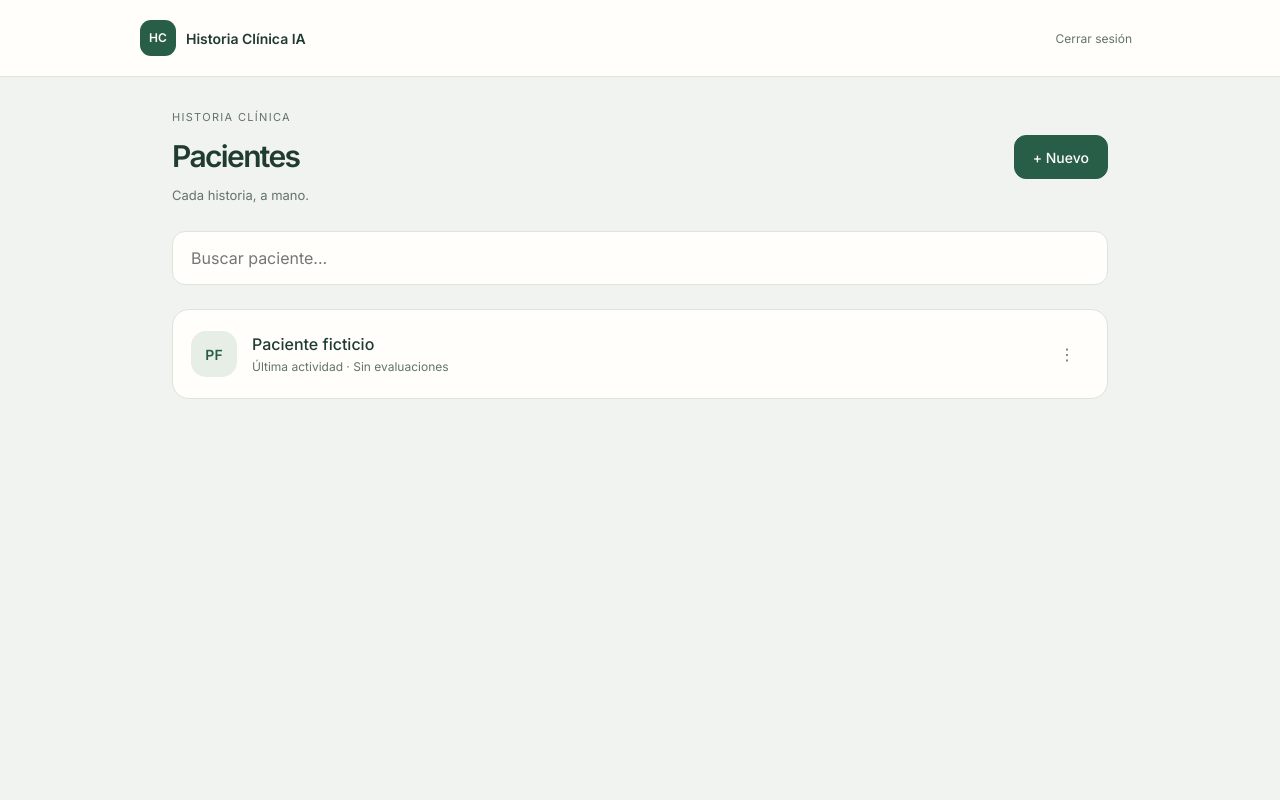
Test: eliminar paciente exige confirmación y actualiza la lista
The width and height of the screenshot is (1280, 800).
Expected: the text "Paciente ficticio" is shown, top-left (252, 334), bottom-right (374, 354)
Click the button named "Más opciones": x=1067, y=354 top-left (1045, 332), bottom-right (1089, 376)
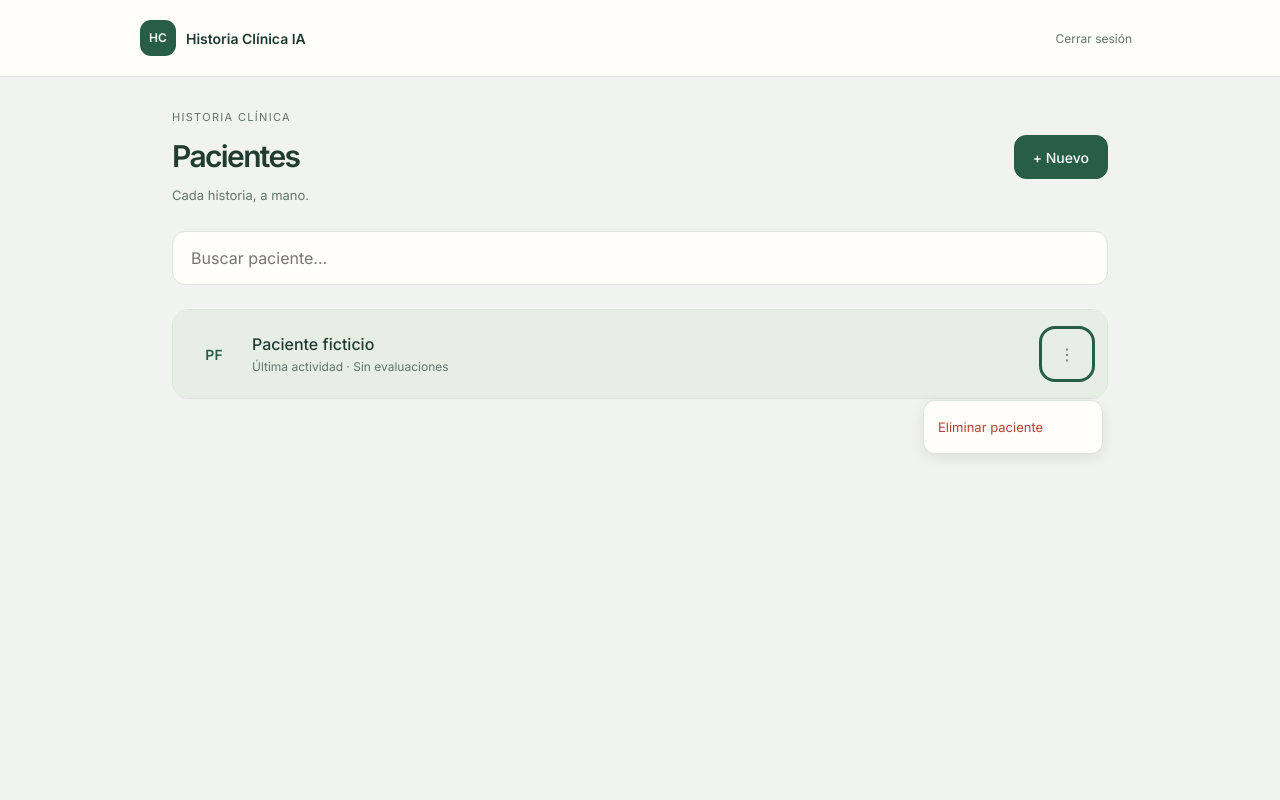
Click the button "Eliminar paciente": x=1013, y=427 top-left (928, 405), bottom-right (1098, 449)
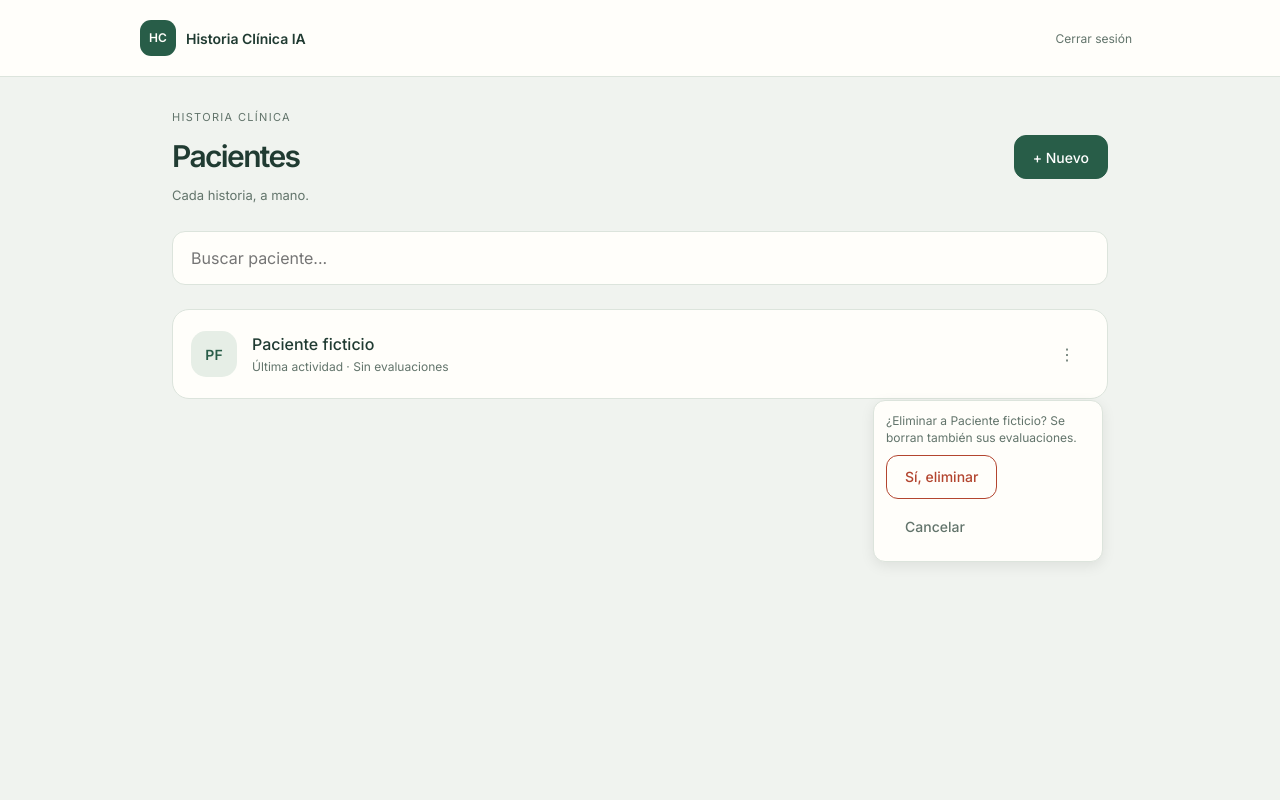
Click the button "Sí, eliminar": x=942, y=477 top-left (886, 455), bottom-right (997, 499)
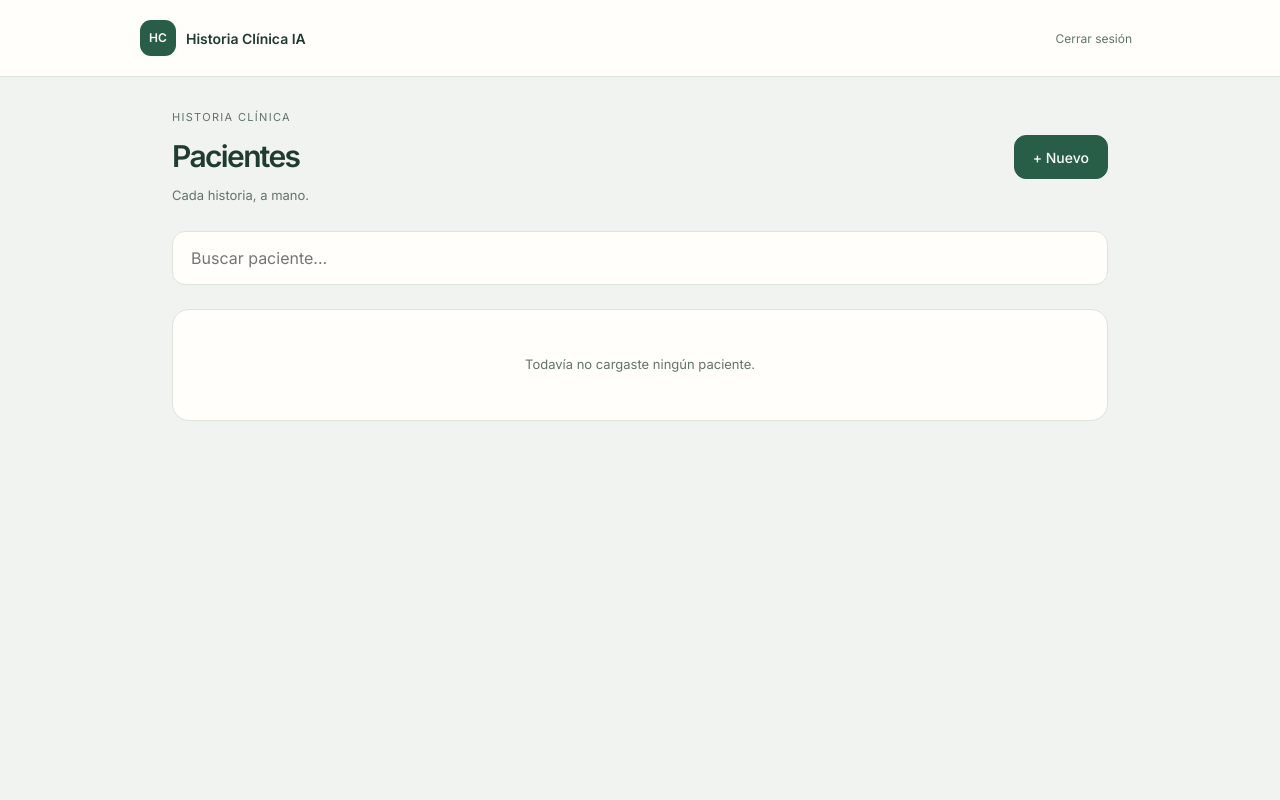
Expected: the text "Todavía no cargaste ningún paciente." is shown, top-left (525, 356), bottom-right (755, 372)
